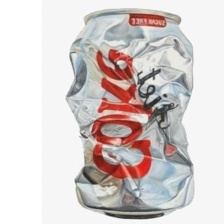can: (64, 5, 200, 220)
